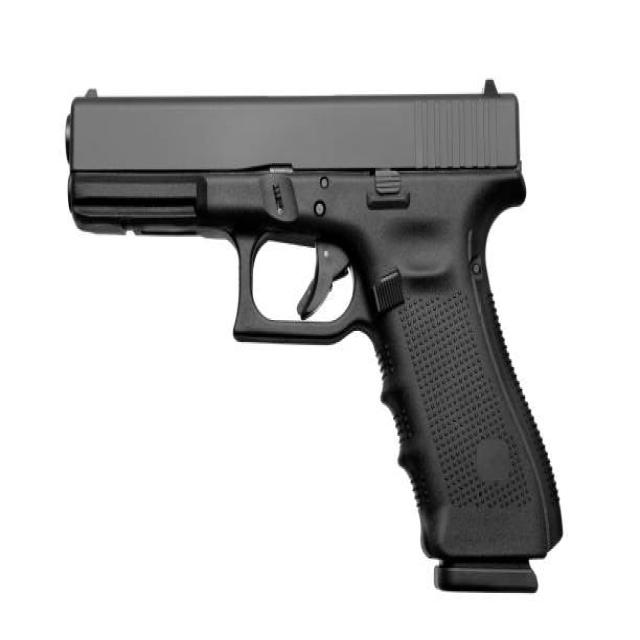pistol: (58, 77, 569, 608)
